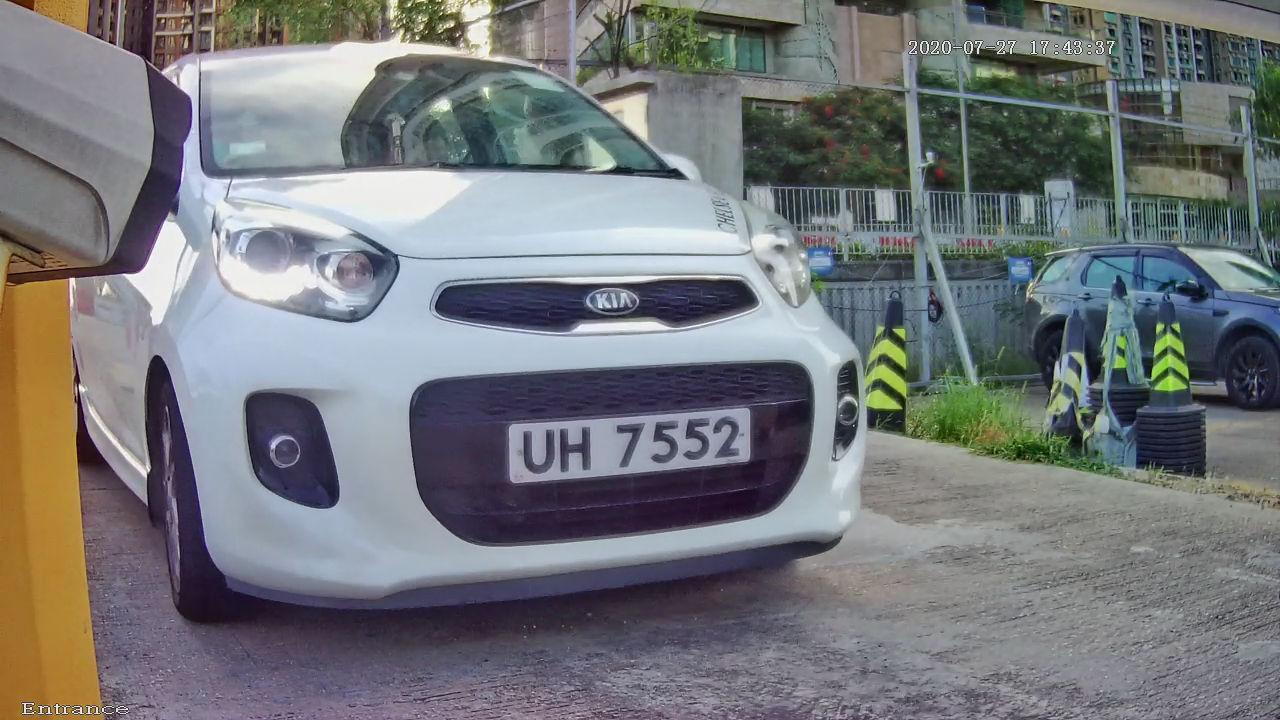privatecar: (63, 23, 949, 637)
